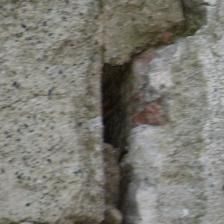Crack: (46, 20, 110, 204)
